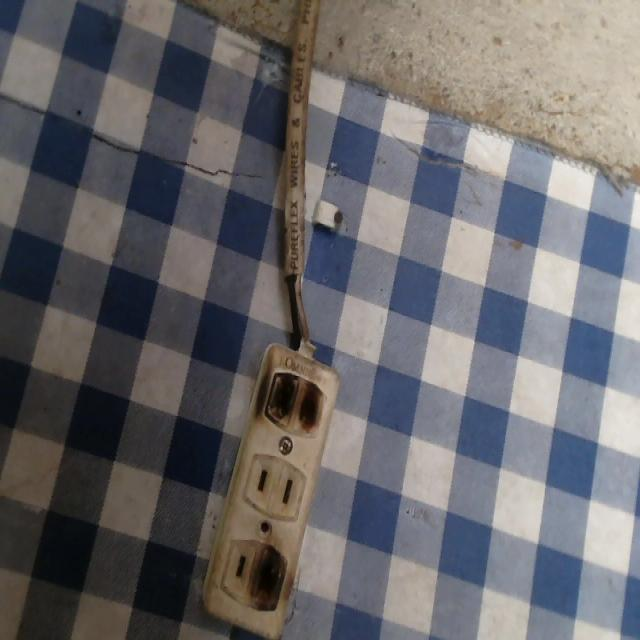-: (252, 360, 324, 443), (244, 537, 290, 619)
